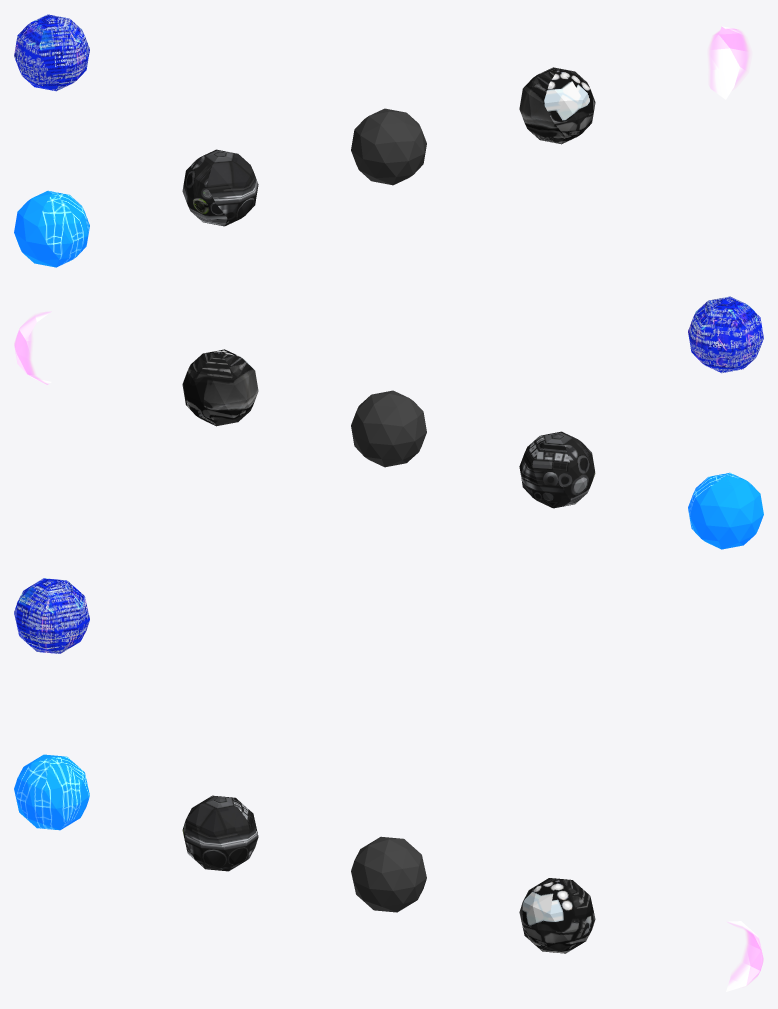
File: Mats_Future.glb
3 views of the same model, one above another, from view 1: azimuth 30°, elevation 25°; view 2: azimuth 150°, elevation 25°; view 3: azimuth 330°, elevation 25° (orthographic).
Visible parts, largest first — view 1: UFO_Future, DJ_AnNiu_Future, Skybox_Future, Dancers_Future_Active, Dancers_Future, UFOLight_Future; view 2: UFO_Future, DJ_AnNiu_Future, Skybox_Future, Dancers_Future_Active, Dancers_Future, UFOLight_Future; view 3: Skybox_Future, Dancers_Future, Dancers_Future_Active, DJ_AnNiu_Future, UFO_Future, UFOLight_Future.
Part boxes in pixels (x1,y1,x2,y2): UFO_Future: (519, 67, 595, 144); DJ_AnNiu_Future: (182, 149, 258, 226); Skybox_Future: (351, 108, 426, 185); Dancers_Future_Active: (14, 14, 89, 91); Dancers_Future: (14, 190, 89, 267); UFOLight_Future: (709, 26, 748, 99); UFO_Future: (182, 349, 258, 426); DJ_AnNiu_Future: (519, 431, 595, 508); Skybox_Future: (351, 390, 426, 467); Dancers_Future_Active: (688, 296, 763, 373); Dancers_Future: (688, 472, 763, 549); UFOLight_Future: (14, 311, 51, 384); Skybox_Future: (351, 836, 426, 912); Dancers_Future: (14, 754, 89, 830); Dancers_Future_Active: (14, 578, 89, 653); DJ_AnNiu_Future: (182, 795, 258, 871); UFO_Future: (519, 878, 595, 953); UFOLight_Future: (726, 921, 763, 991).
Bounding box in the file's own units: 0.219 × 0.07 × 0.02.
6 materials, 5 textured.
